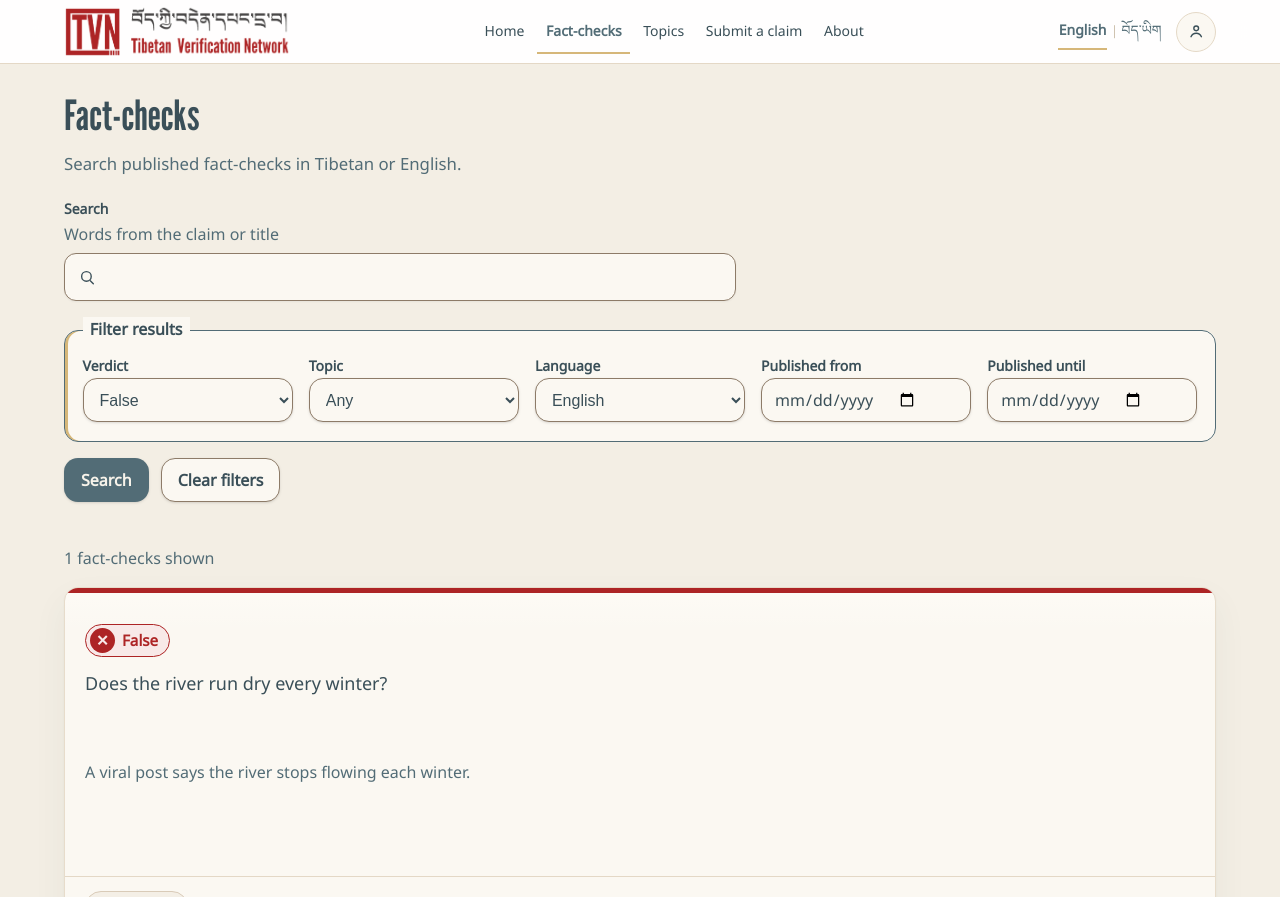
Test: search page › clears filters
Expected: the link "Does the river run dry every winter?" is shown, top-left (85, 671), bottom-right (387, 695)
What coordinates should you click on to do the following:
click the button "Clear filters"
I would click on:
 (220, 480)
Its box is top-left (161, 458), bottom-right (280, 502).
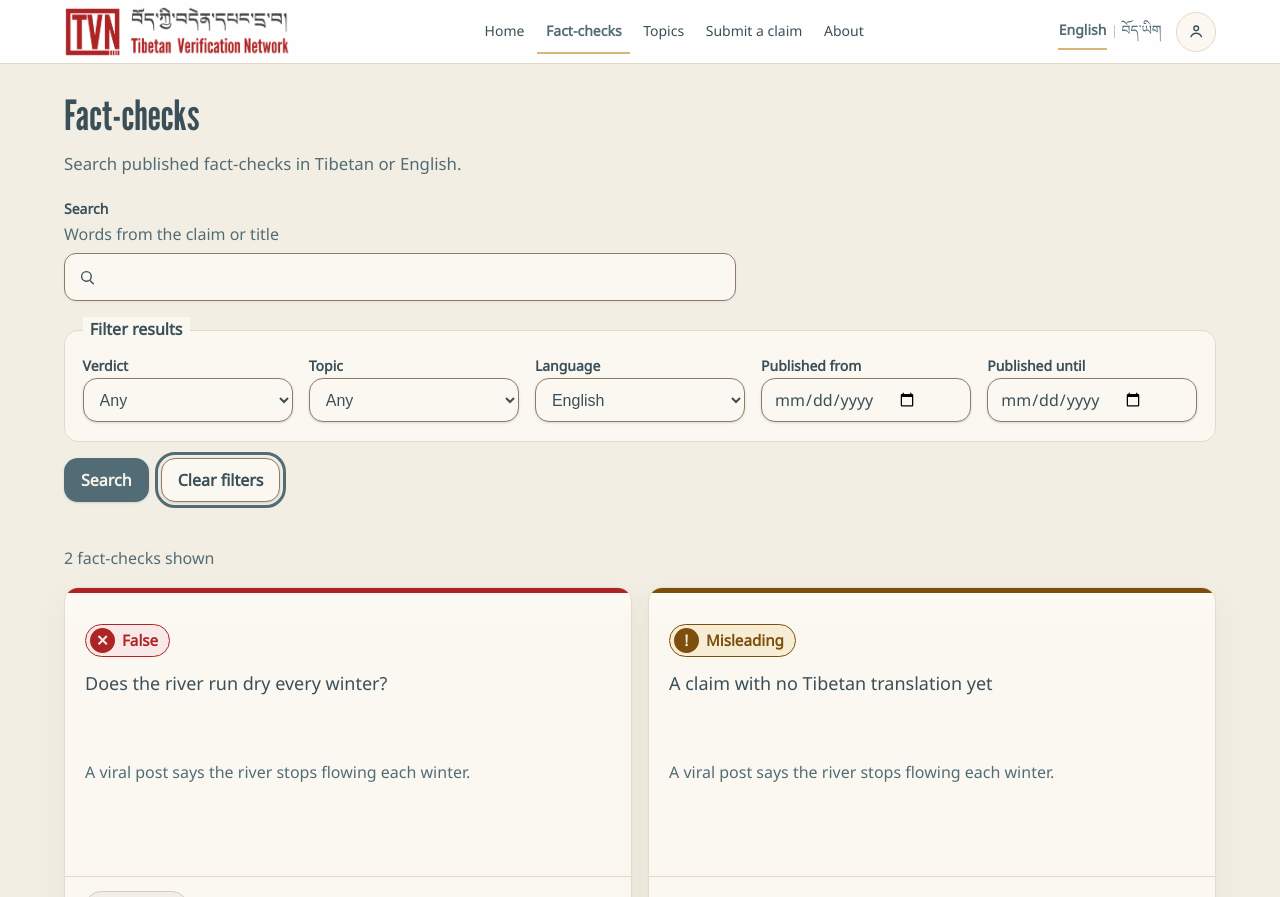
Expected: the link "A claim with no Tibetan translation yet" is shown, top-left (669, 671), bottom-right (993, 695)
Expected: the dropdown labelled "Verdict" shows "Any", top-left (83, 378), bottom-right (293, 422)
